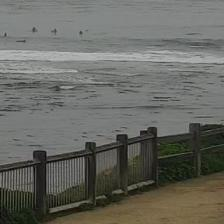surfer: (32, 27, 38, 32), (52, 28, 57, 33), (17, 40, 26, 42), (79, 31, 83, 35), (4, 32, 7, 36)
